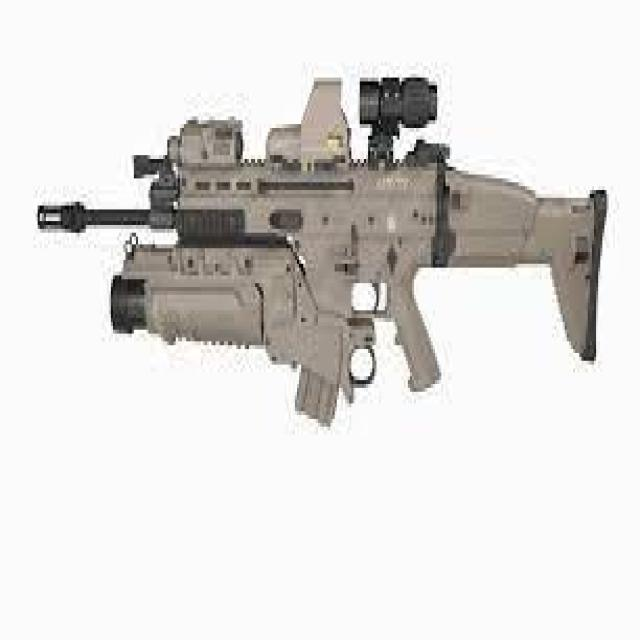Gun: (30, 74, 633, 466)
